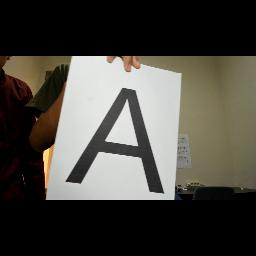a: (54, 76, 168, 200)
